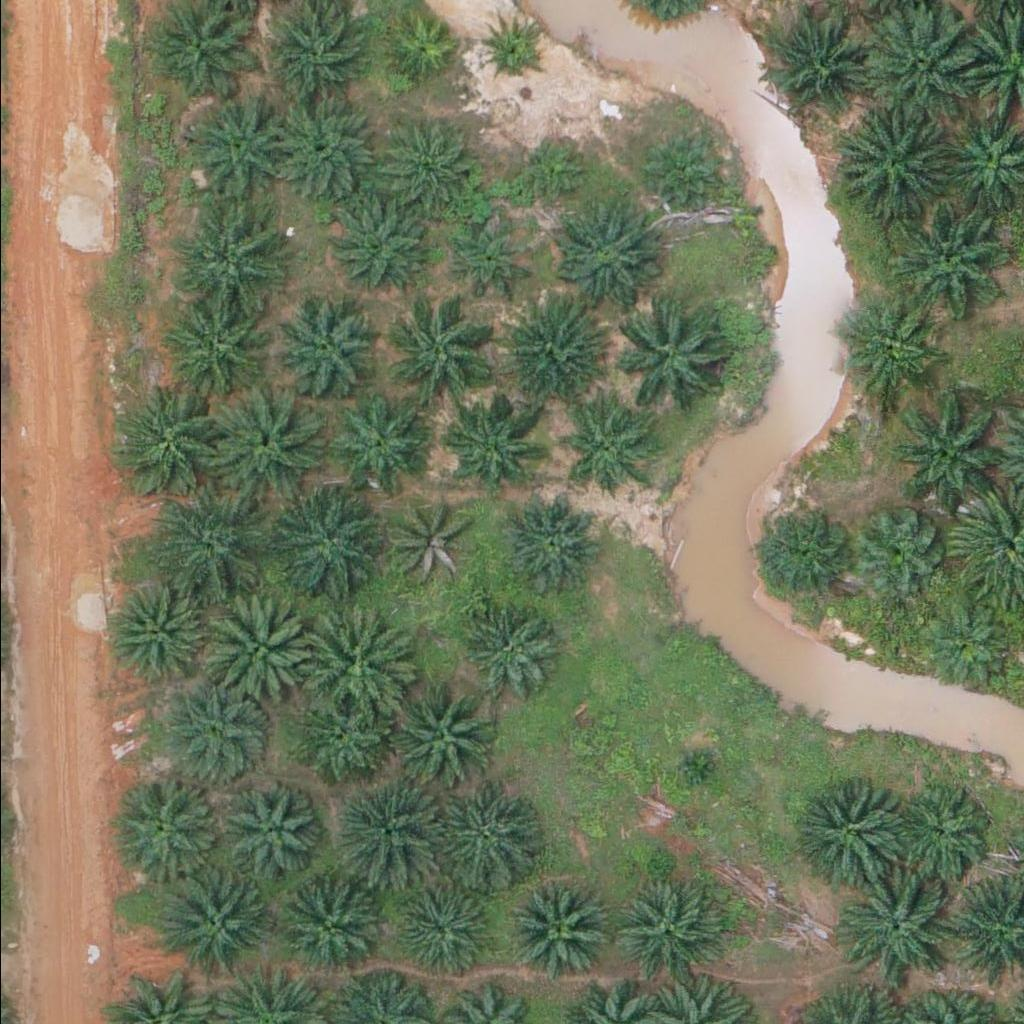Kelapa_Sawit: (107, 776, 221, 889), (155, 863, 269, 976), (835, 103, 949, 216), (787, 774, 900, 887), (329, 775, 442, 888), (108, 387, 221, 500), (618, 300, 731, 413), (545, 194, 658, 307), (267, 92, 380, 205), (179, 89, 292, 202), (386, 299, 500, 411), (169, 197, 283, 309), (839, 866, 952, 978), (385, 680, 498, 792), (302, 603, 415, 715), (204, 590, 317, 702), (149, 492, 262, 604), (270, 488, 383, 600), (894, 392, 1007, 504), (208, 386, 321, 498), (151, 287, 264, 399), (490, 290, 603, 402), (894, 203, 1007, 315), (861, 11, 974, 123), (889, 781, 990, 881), (211, 781, 312, 881), (167, 682, 268, 782), (456, 596, 557, 696), (436, 392, 537, 492), (274, 294, 375, 394), (323, 194, 424, 294), (257, 2, 358, 102), (612, 881, 712, 981), (503, 882, 603, 982), (387, 882, 487, 982), (271, 878, 371, 978), (427, 784, 527, 884), (105, 581, 205, 681), (755, 502, 855, 602), (502, 493, 602, 593), (333, 392, 433, 492), (834, 299, 934, 399), (769, 9, 869, 109), (376, 117, 476, 217), (296, 692, 384, 780), (860, 506, 948, 594), (442, 217, 530, 305), (634, 122, 722, 210), (925, 603, 1013, 691), (383, 502, 471, 589), (553, 404, 641, 491), (516, 134, 591, 209), (378, 10, 453, 85), (477, 19, 540, 82), (674, 739, 725, 789)
